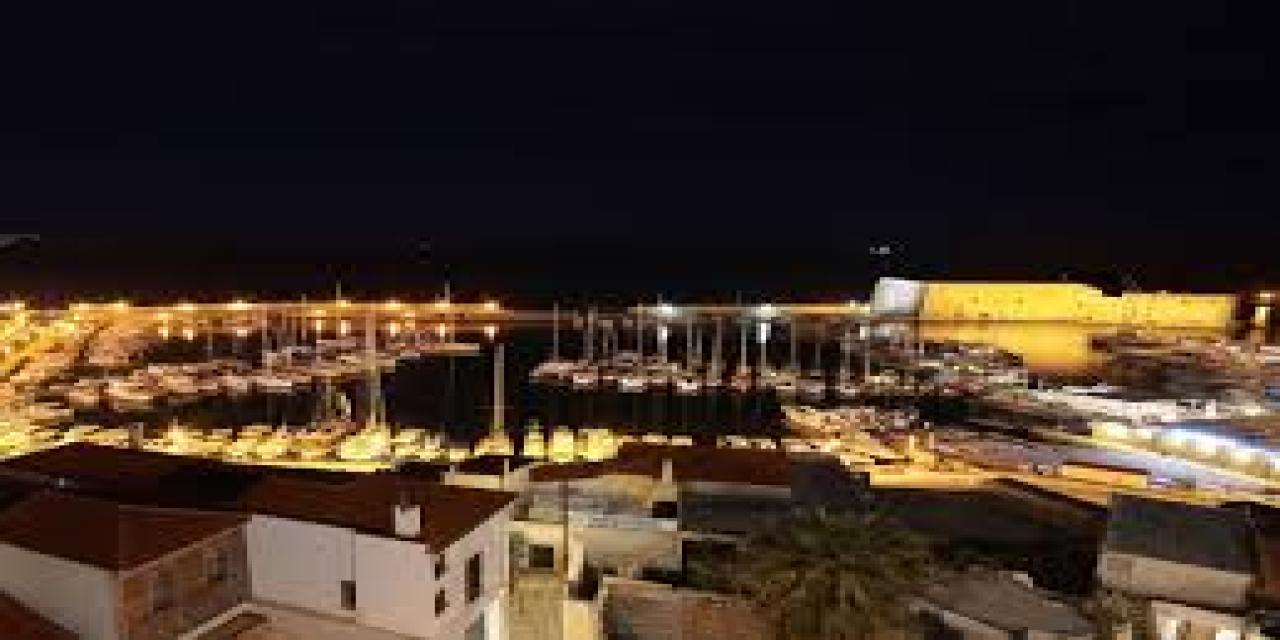Kules: (917, 263, 1239, 325)
